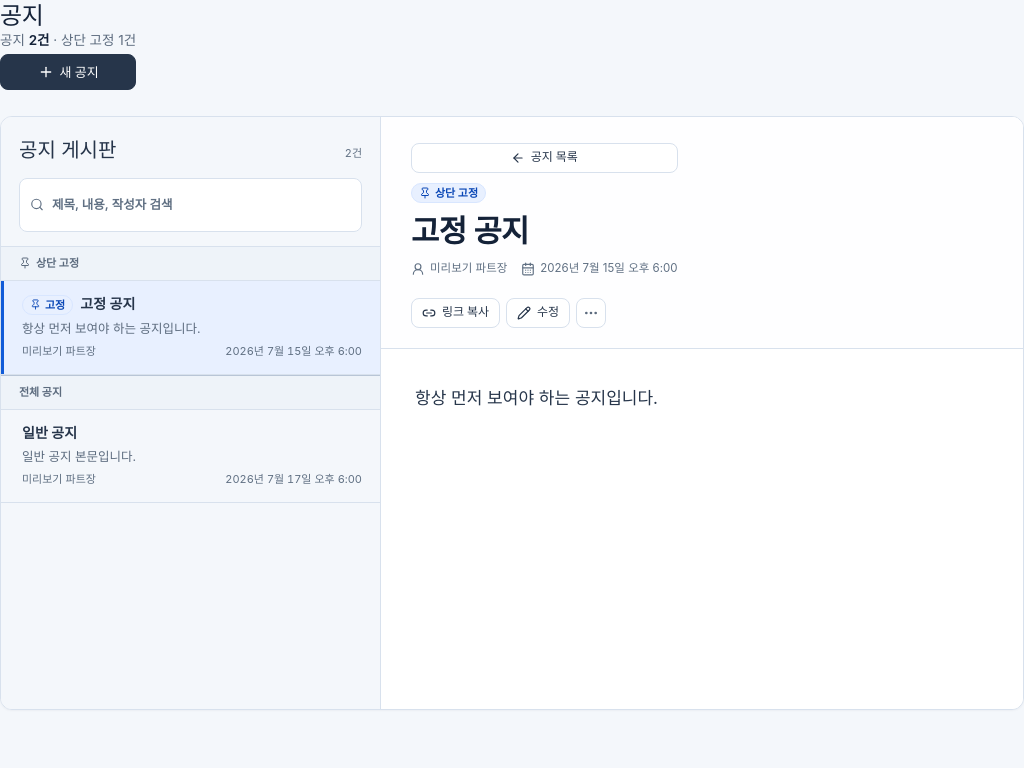
Scenario: AnnouncementsPanel › asks before discarding a typed notice from any close control
Click the button "새 공지".
click(68, 72)  # box [0,54,136,90]
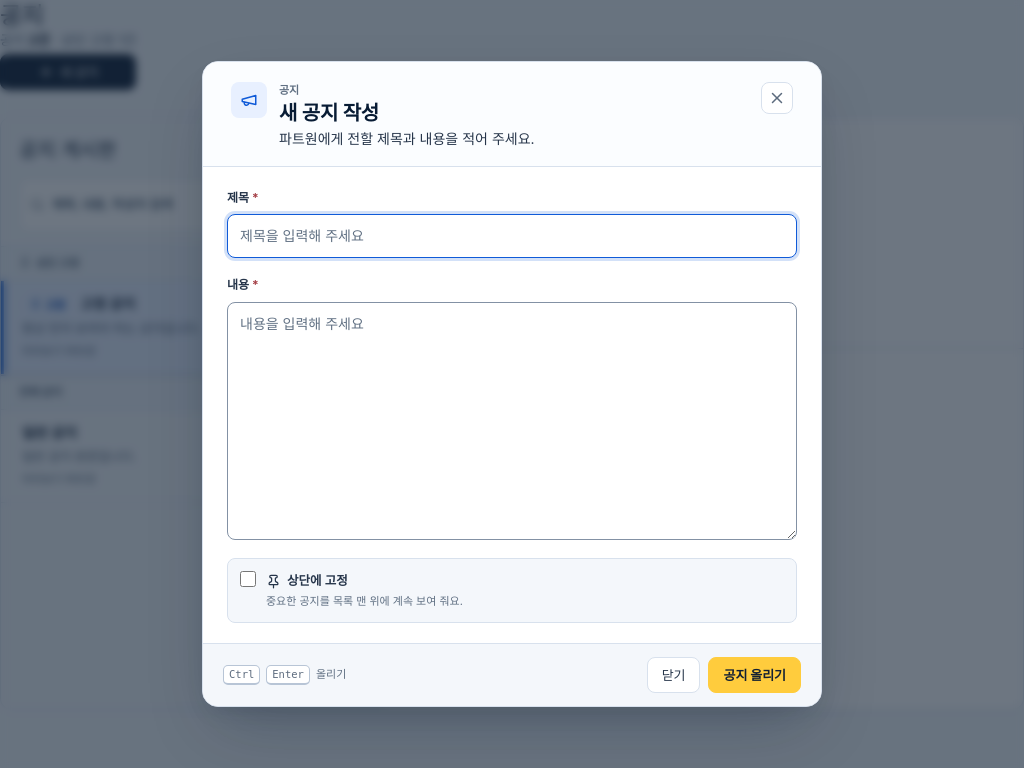
Type "쓰다 만 공지" into the field labelled "제목".
click(512, 236); type("쓰다 만 공지")  # box [227,214,797,258]
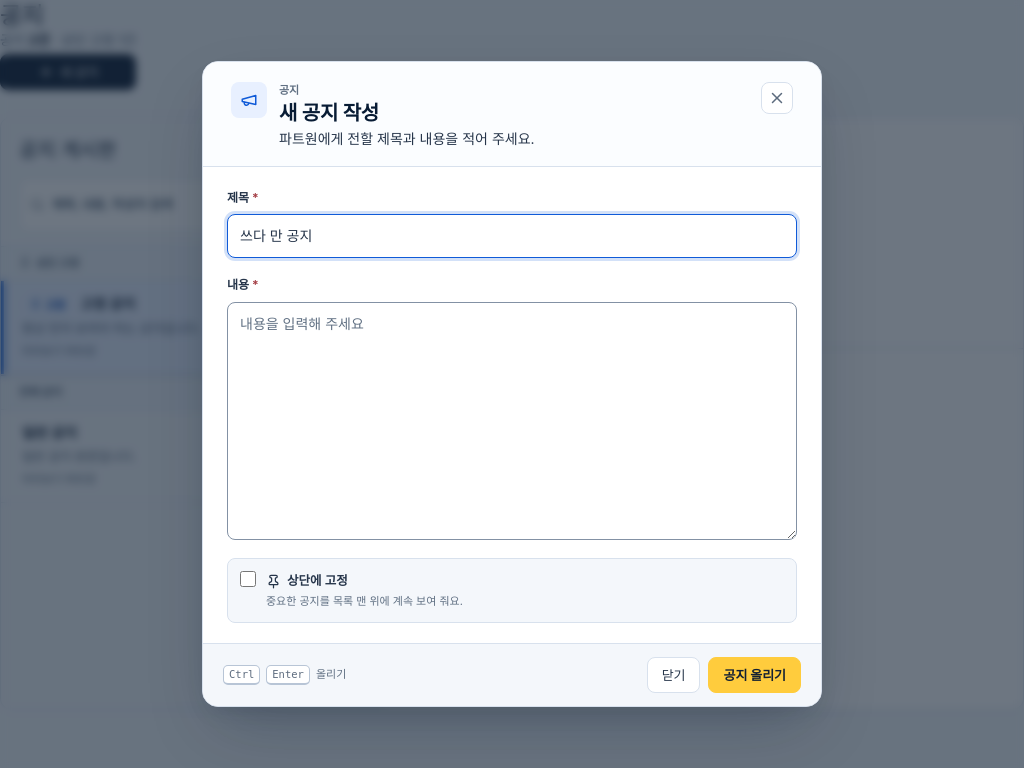
Click the button "닫기".
click(674, 675)  # box [647,657,700,693]
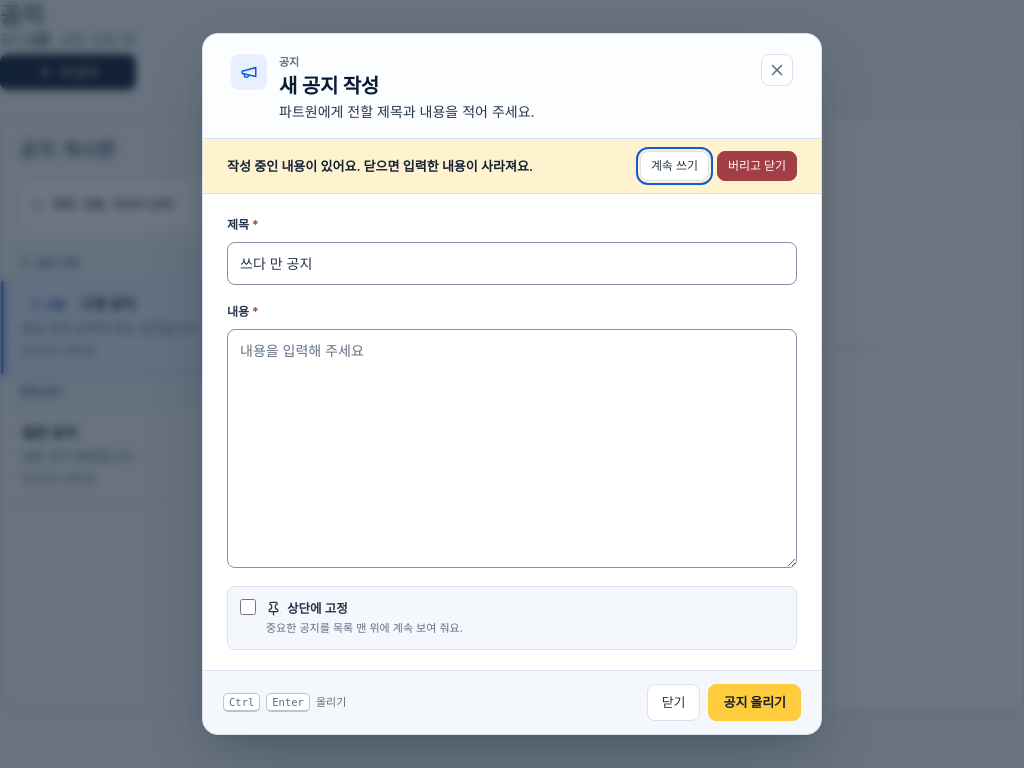
Now the text "작성 중인 내용이 있어요. 닫으면 입력한 내용이 사라져요." is shown, box [227,156,533,176]
Click the button "계속 쓰기".
click(674, 166)  # box [640,151,709,181]
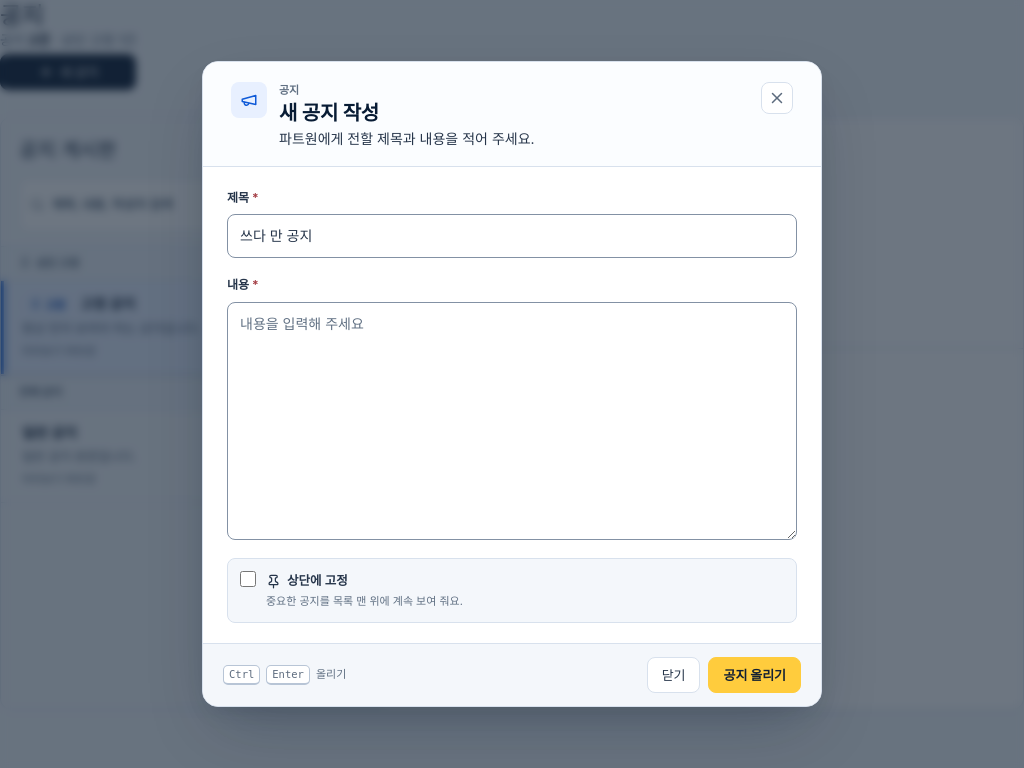
Press Escape
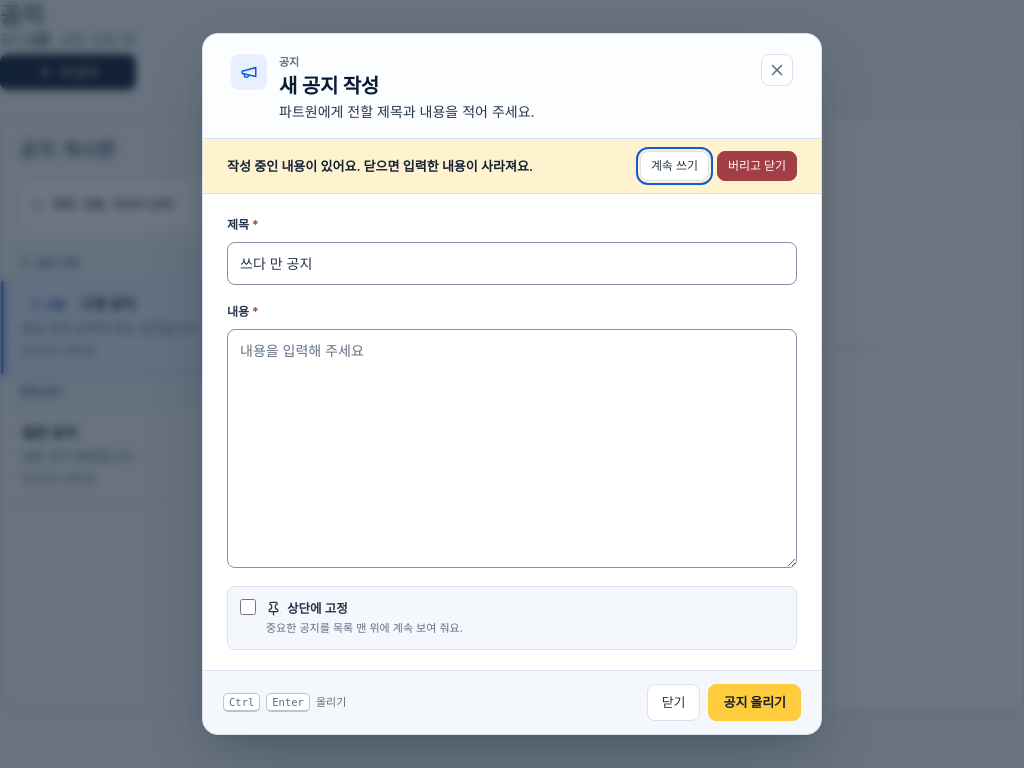
Now the text "작성 중인 내용이 있어요. 닫으면 입력한 내용이 사라져요." is shown, box [227,156,533,176]
Click the button "버리고 닫기".
click(757, 166)  # box [717,151,797,181]
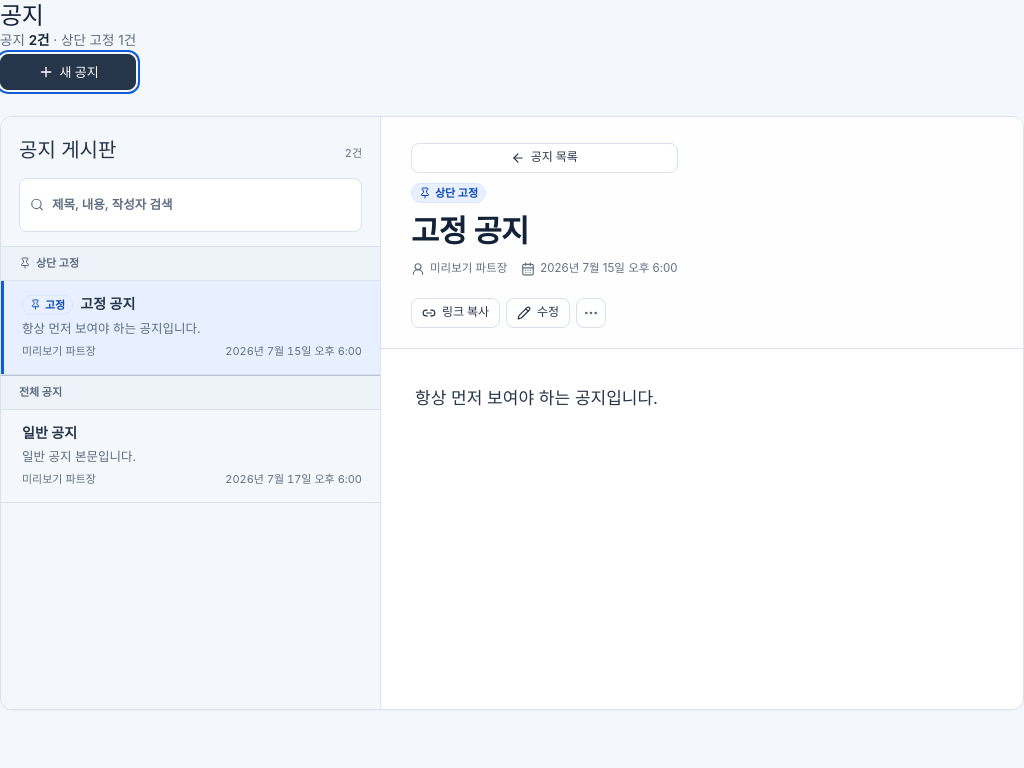
Now the heading "새 공지 작성" is gone
